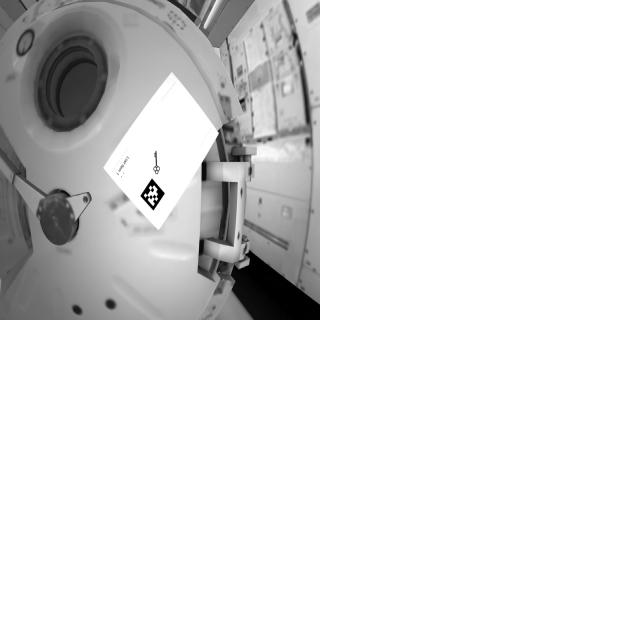key: (152, 149, 165, 177)
